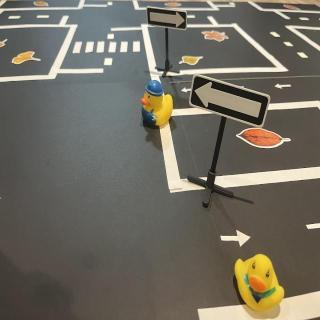duck_regular: (235, 255, 286, 315)
duck_specialty: (141, 81, 175, 131)
road_crosswalk: (71, 39, 147, 57)
road_oneway: (220, 231, 252, 249), (276, 81, 296, 91), (181, 85, 194, 96)
sign_oneway_left: (192, 77, 272, 127)
sign_oneway_right: (147, 5, 189, 31)
